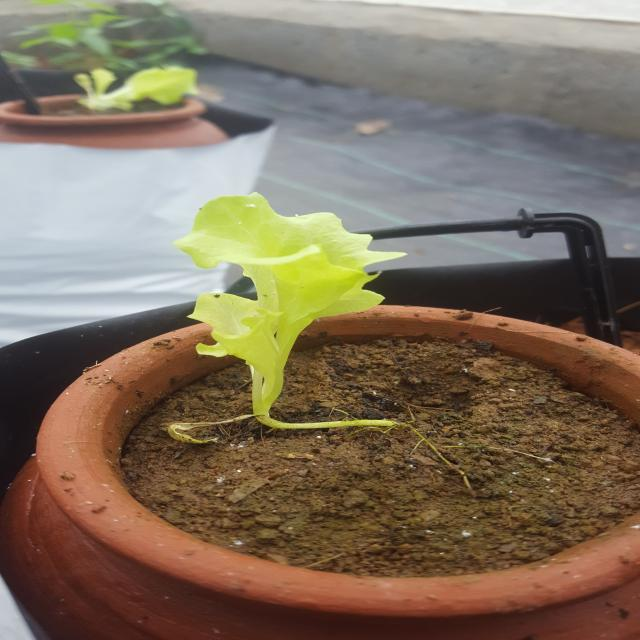Lettuce-Not-Ready-to-Harvest: (171, 192, 407, 431), (73, 67, 198, 112)
